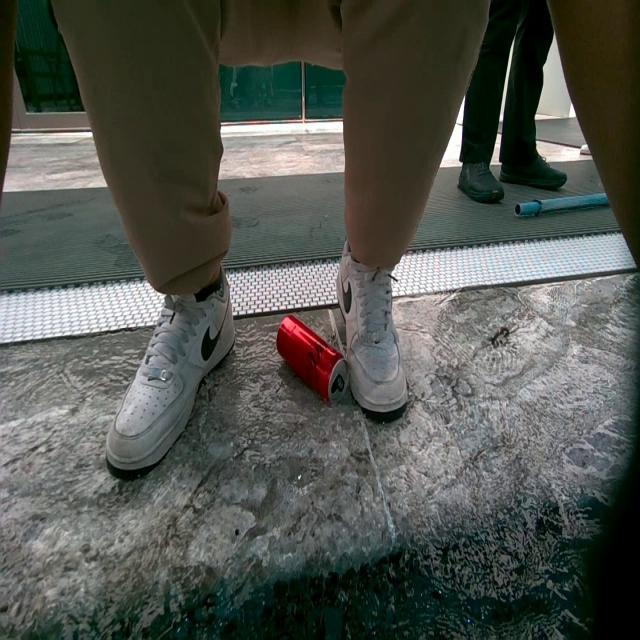Cans: (277, 314, 356, 408)
